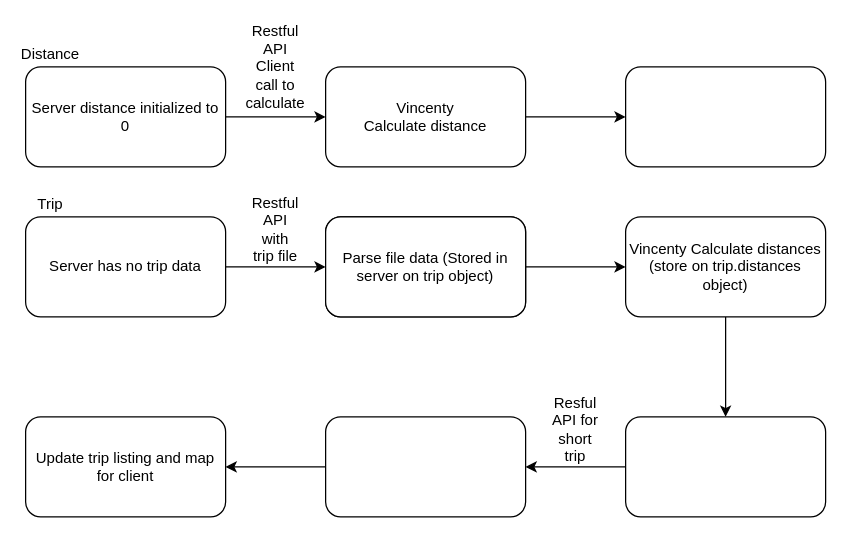
This 848x539 diagram has some shape labels left out. The shapes that lost their labels are listed below. From the top down, each one's box as (x1, y1, x2, y2) in pixels, then its label:
(624, 66, 826, 167): Update distance on Server
(324, 416, 526, 517): run shortest distance algorithm on trip
(624, 416, 826, 517): Update trip listing and map for client.
